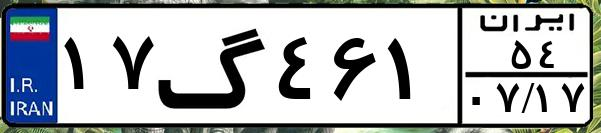0: (470, 70, 495, 125)
1: (385, 28, 445, 110), (57, 26, 110, 100), (535, 70, 560, 125)
4: (270, 28, 330, 110), (537, 27, 568, 80)
5: (508, 27, 537, 80)
6: (330, 28, 385, 110)
7: (110, 28, 156, 98), (560, 70, 590, 125), (495, 70, 520, 125)
گ: (156, 12, 270, 120)
